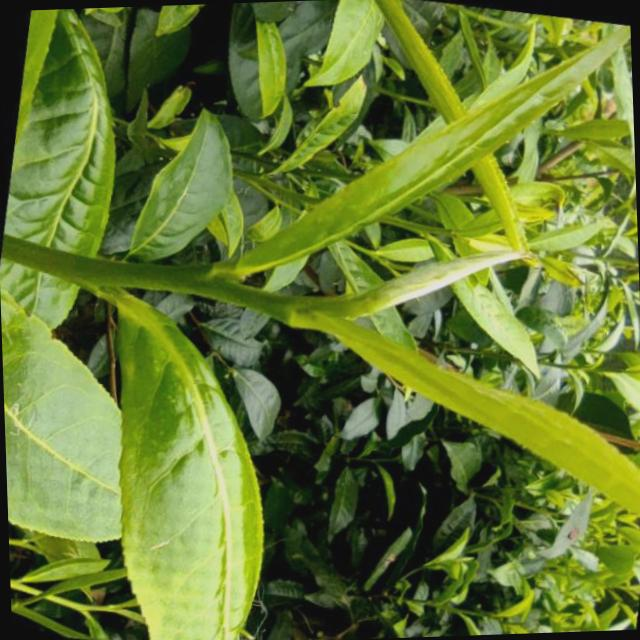Stem: (178, 268, 213, 294), (419, 227, 428, 235), (368, 252, 374, 256)
